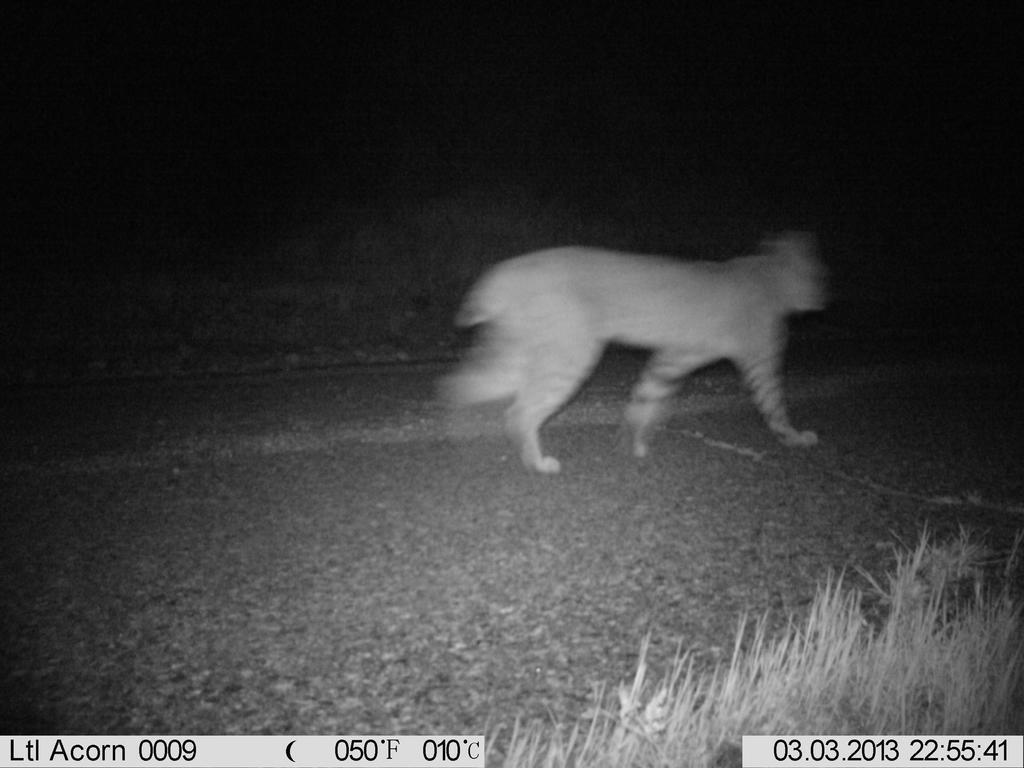bobcat: (429, 221, 840, 484)
